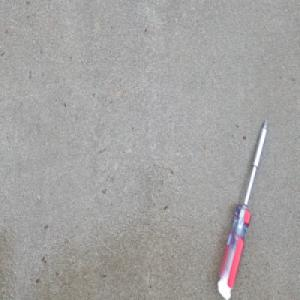Screwdriver: (216, 116, 269, 300)
